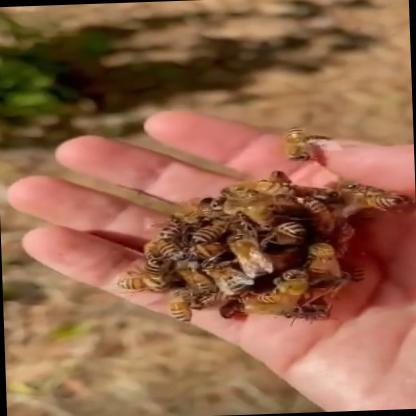bee: (134, 122, 414, 326)
